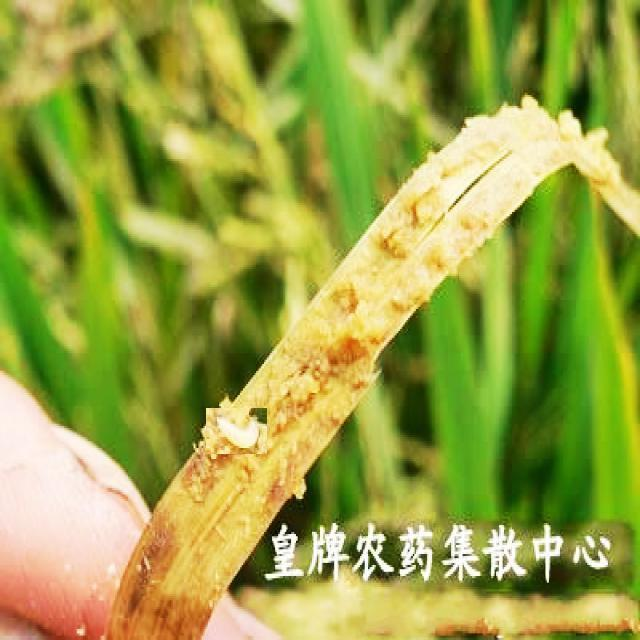whorl-maggot: (206, 408, 267, 454)
